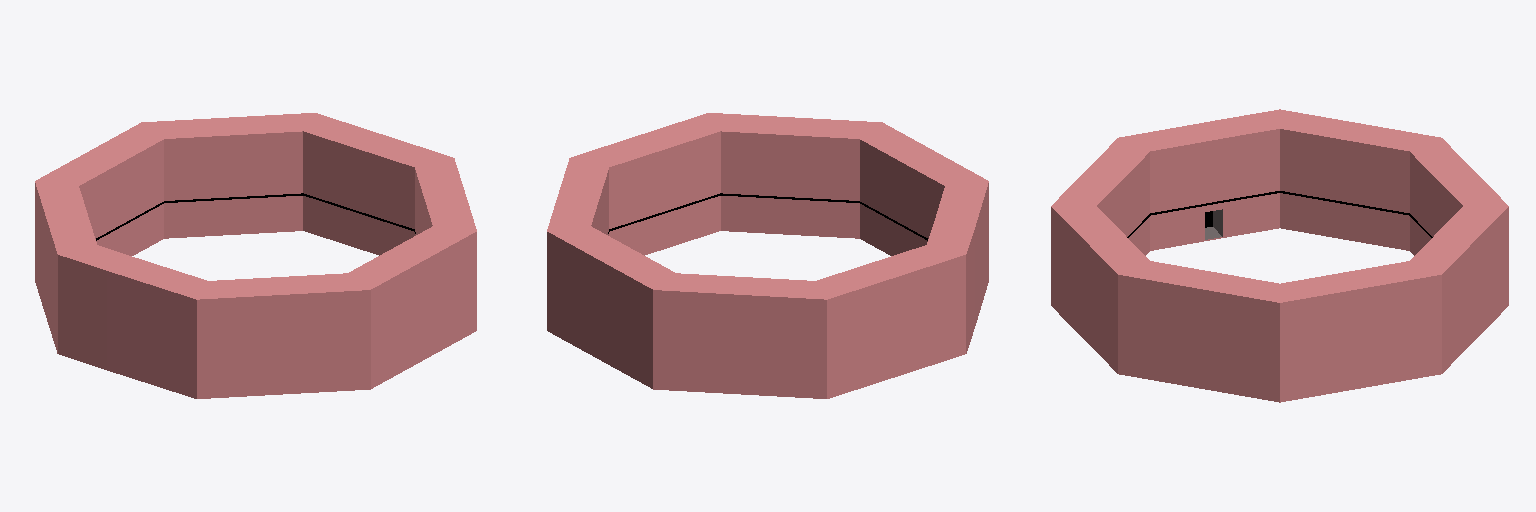
The model's file is ParedesLvl1.obj.
3 renders of one model, left to right at view 1: azimuth 30°, elevation 25°; view 2: azimuth 150°, elevation 25°; view 3: azimuth 270°, elevation 25°, orthographic.
Parts seen in each view (by area): view 1: ParedesLvl1; view 2: ParedesLvl1; view 3: ParedesLvl1.
Boxes of the visible parts, <box> form: ParedesLvl1: <box>35,113,476,398</box>; ParedesLvl1: <box>547,113,988,398</box>; ParedesLvl1: <box>1051,109,1508,402</box>.
Size of the model in its own units: 100 by 24 by 100.